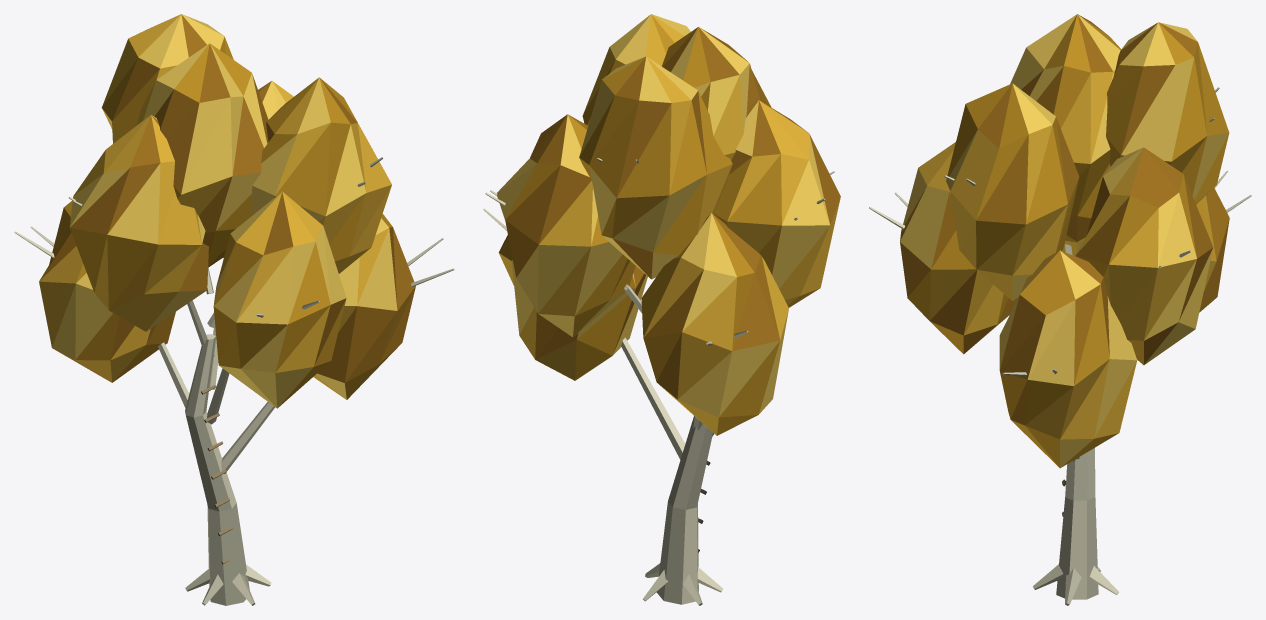
File: tree_birch_gold.obj
The picture shows the model from 3 angles, left to right: view 1: azimuth 30°, elevation 25°; view 2: azimuth 150°, elevation 25°; view 3: azimuth 270°, elevation 25°; orthographic projection. The views are drawn at different scales.
Visible parts, largest first — view 1: tree_birch_gold; view 2: tree_birch_gold; view 3: tree_birch_gold.
Boxes of the visible parts, x1,y1,x2,y2 form: tree_birch_gold: (14,14,454,605); tree_birch_gold: (483,14,840,605); tree_birch_gold: (869,14,1251,605).
Bounding box in the file's own units: 353 × 530 × 322.
1 material, 1 textured.
